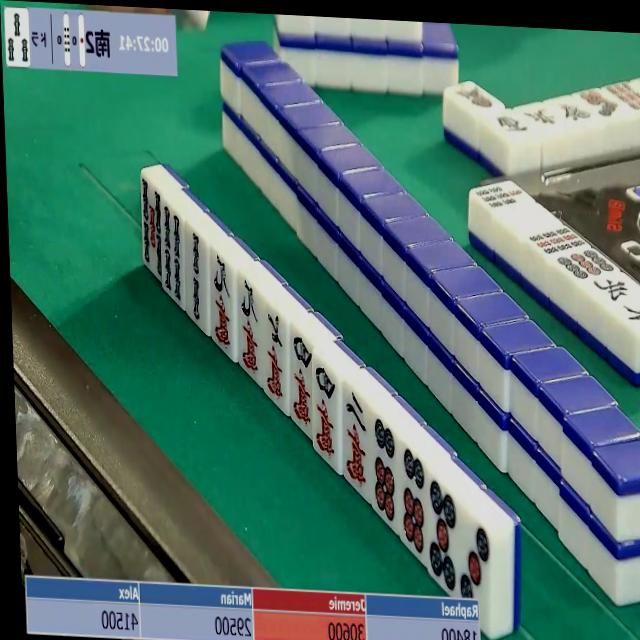m2: (341, 388, 372, 495)
m4: (310, 362, 344, 465), (285, 330, 318, 432)
m7: (256, 305, 288, 405)
m9: (205, 249, 235, 355), (235, 275, 264, 378)
s2: (183, 229, 207, 327)
s3: (5, 9, 29, 67)
s4: (163, 201, 183, 302)
s5: (140, 177, 164, 279)
t3: (457, 514, 495, 602)
t5: (426, 478, 461, 588)
t6: (365, 414, 401, 533), (395, 443, 429, 562)
